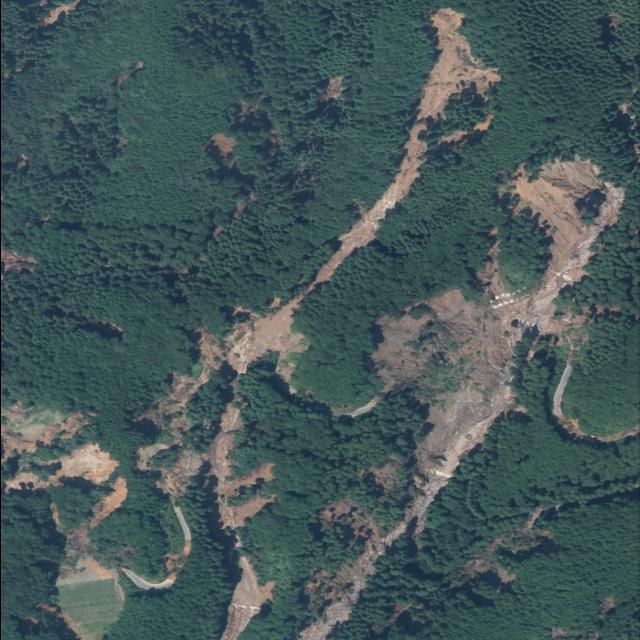landslide: (297, 155, 625, 640), (201, 8, 500, 380), (201, 405, 273, 530), (219, 557, 272, 640)
